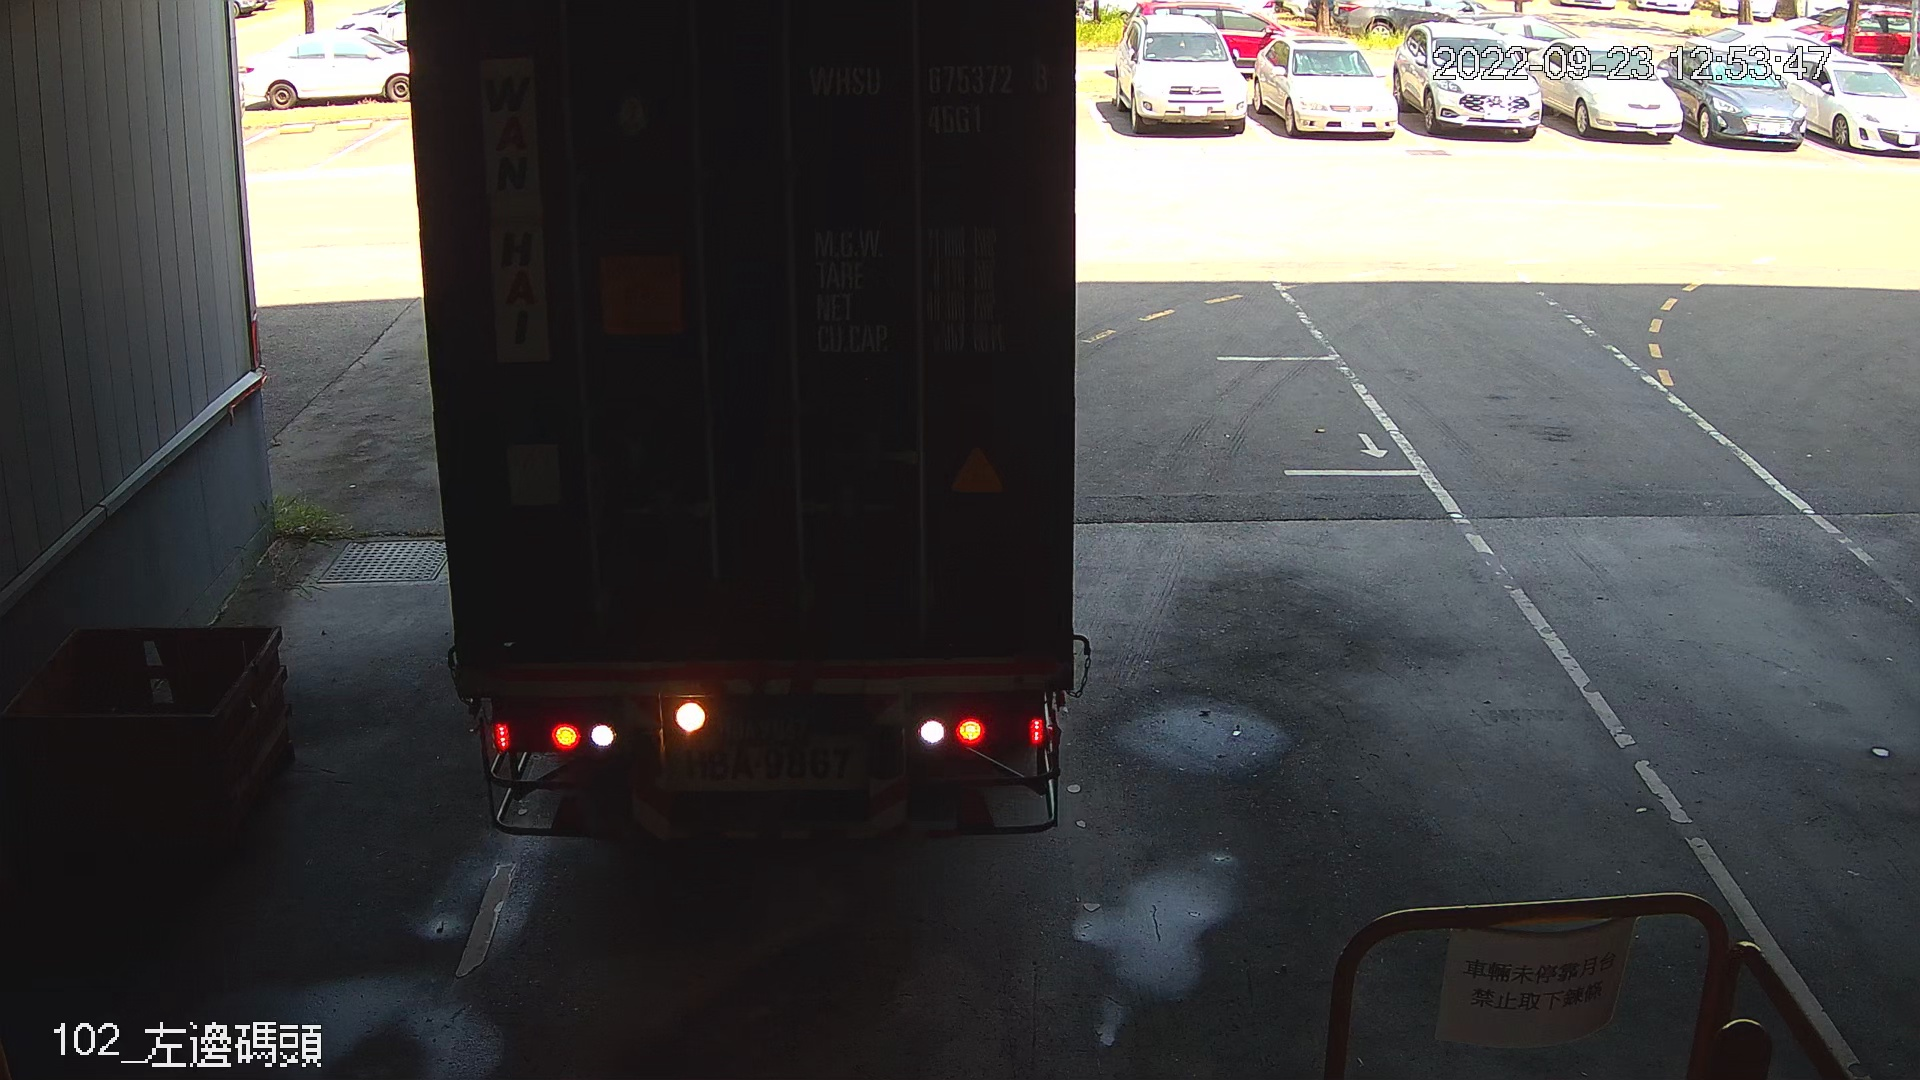container: (795, 44, 1064, 148)
